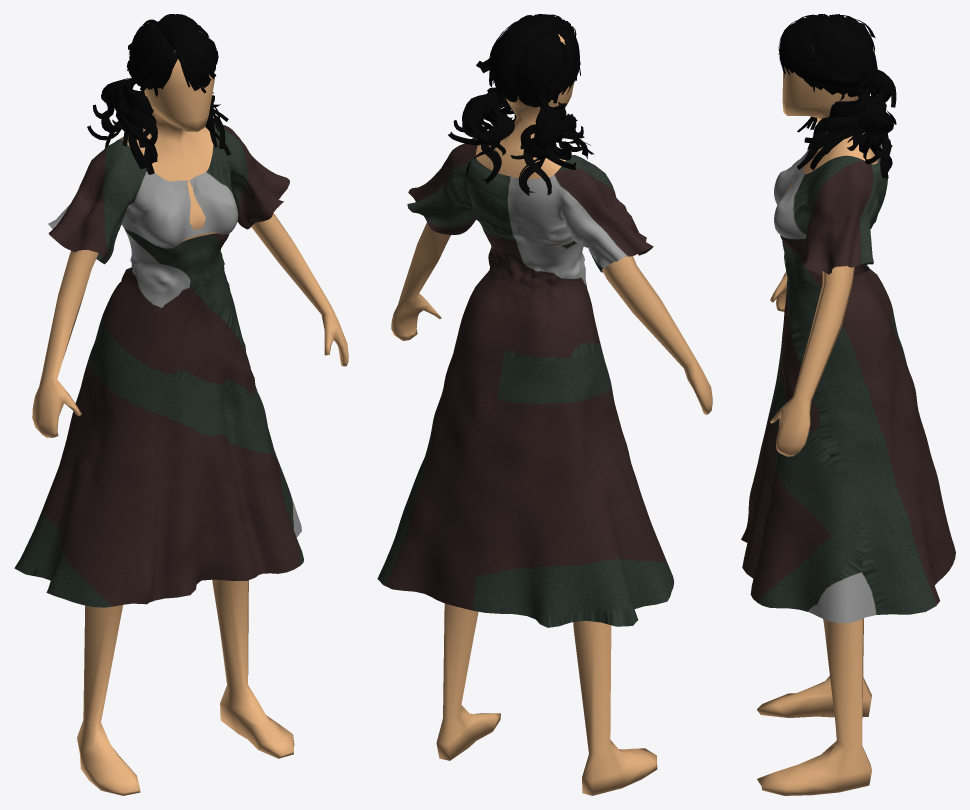
The model's file is ALL CHARACTERS FOR BAKING.fbx.
3 views of the same model, side by side, from view 1: azimuth 30°, elevation 25°; view 2: azimuth 150°, elevation 25°; view 3: azimuth 270°, elevation 25° (orthographic).
Parts seen in each view (by area): view 1: Garments, female base model.003, GirlHair4.005; view 2: Garments, female base model.003, GirlHair4.005; view 3: Garments, female base model.003, GirlHair4.005.
Boxes of the visible parts, <box> form: Garments: <box>14,122,303,607</box>; female base model.003: <box>32,31,348,795</box>; GirlHair4.005: <box>87,14,230,174</box>; Garments: <box>377,138,674,627</box>; female base model.003: <box>391,34,712,795</box>; GirlHair4.005: <box>448,14,594,195</box>; Garments: <box>741,137,955,623</box>; female base model.003: <box>757,47,877,795</box>; GirlHair4.005: <box>778,14,896,178</box>.
Size of the model in its own units: 138 by 311 by 82.73.
3 materials, 3 textured.
